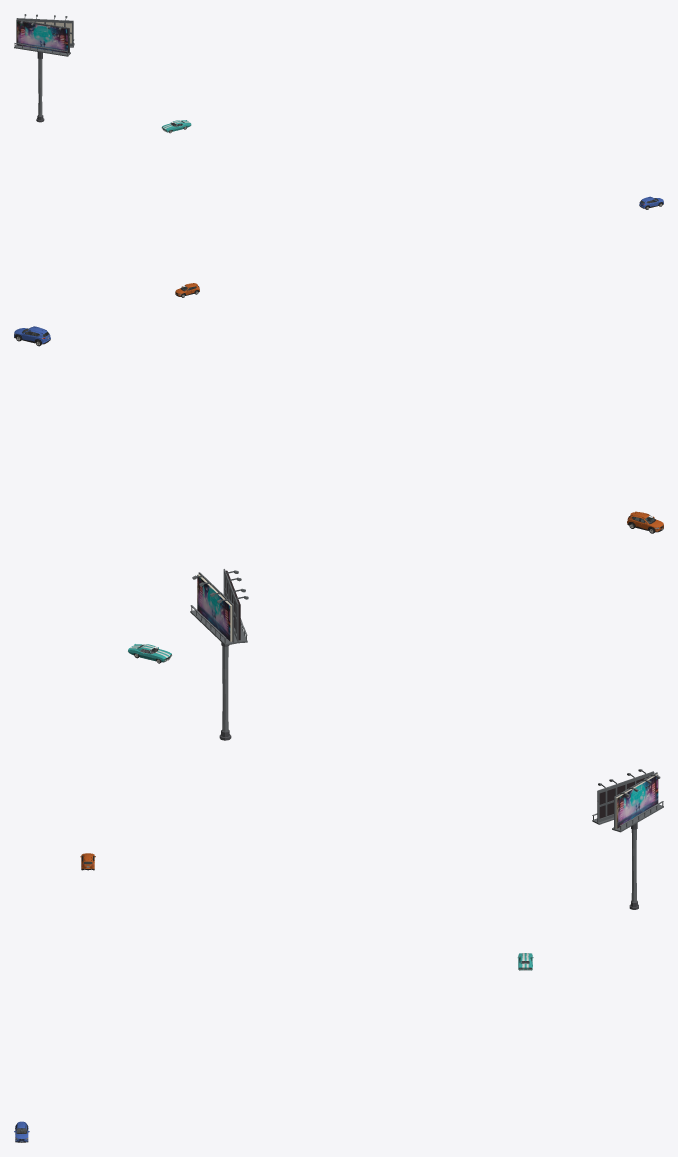
File: car01.glb
3 renders of one model, top to bottom at view 1: azimuth 30°, elevation 25°; view 2: azimuth 150°, elevation 25°; view 3: azimuth 270°, elevation 25°, orthographic. The views are drawn at different scales.
Parts seen in each view (by area): view 1: SM_Prop_Billboard_Sign_07, SM_Prop_Billboard_02; view 2: SM_Prop_Billboard_Sign_02, SM_Prop_Billboard_01, SM_Prop_Billboard_Pole_01, SM_Prop_Billboard_02; view 3: SM_Prop_Billboard_Sign_02, SM_Prop_Billboard_02, SM_Prop_Billboard_01.
Part boxes in pixels (box(x1,y1,x2,y2)): SM_Prop_Billboard_Sign_07: box(17, 21, 68, 53); SM_Prop_Billboard_02: box(14, 19, 70, 56); SM_Prop_Billboard_Sign_02: box(197, 574, 232, 641); SM_Prop_Billboard_01: box(190, 572, 236, 645); SM_Prop_Billboard_Pole_01: box(219, 642, 231, 740); SM_Prop_Billboard_02: box(223, 569, 248, 643); SM_Prop_Billboard_Sign_02: box(615, 774, 658, 828); SM_Prop_Billboard_02: box(592, 769, 654, 824); SM_Prop_Billboard_01: box(612, 772, 663, 832).
Bounding box in the file's own units: 61.24 × 12.84 × 58.84.
6 materials, 5 textured.
